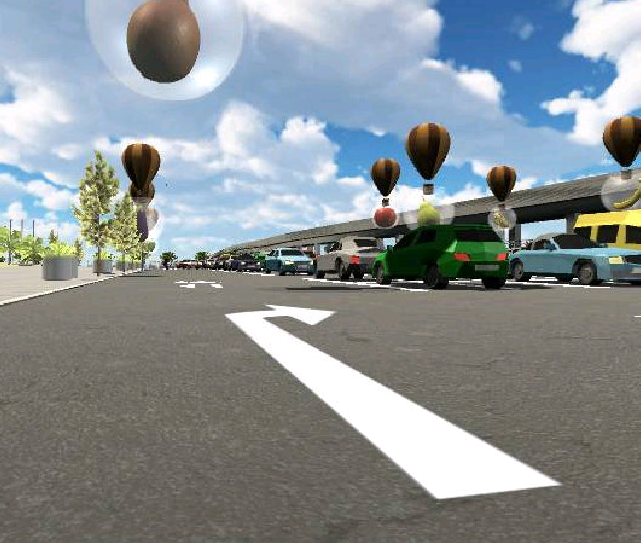ground_right: (216, 304, 340, 328)
